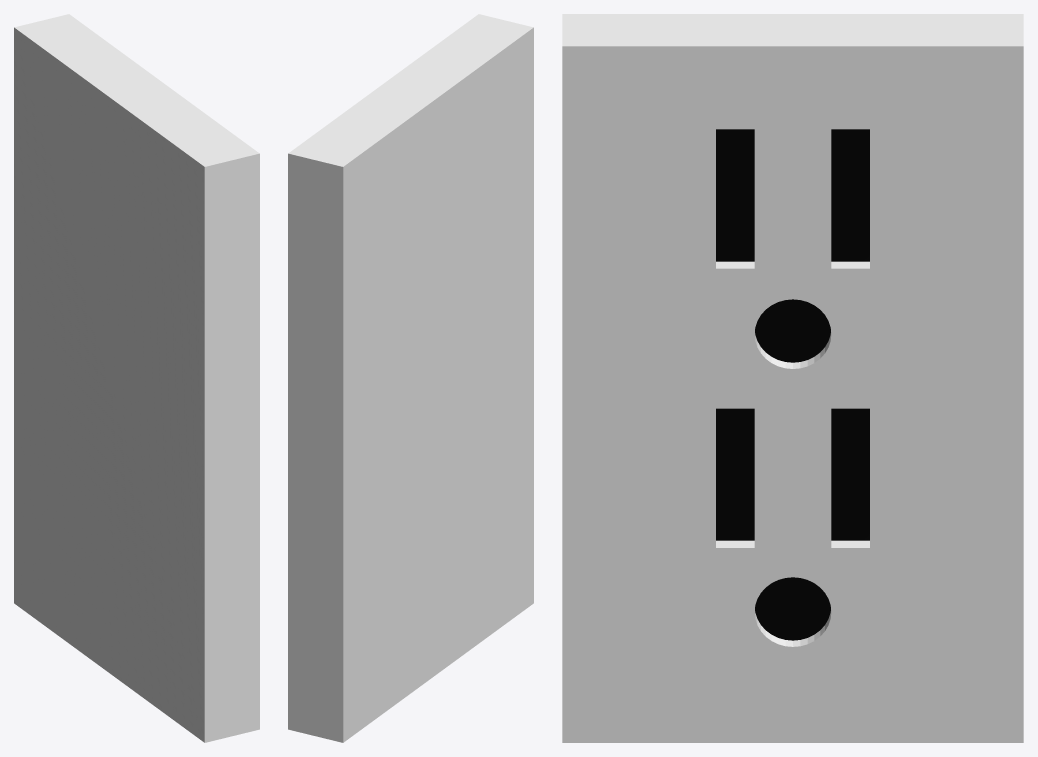
Rendered from Outlet.fbx.
The picture shows the model from 3 angles, left to right: view 1: azimuth 30°, elevation 25°; view 2: azimuth 150°, elevation 25°; view 3: azimuth 270°, elevation 25°; orthographic projection. The views are drawn at different scales.
Parts seen in each view (by area): view 1: Cube; view 2: Cube; view 3: Cube.
Part boxes in pixels (x1,y1,x2,y2): Cube: (14, 14, 259, 742); Cube: (288, 14, 533, 742); Cube: (562, 14, 1023, 742).
Bounding box in the file's own units: 20 × 200 × 120.
